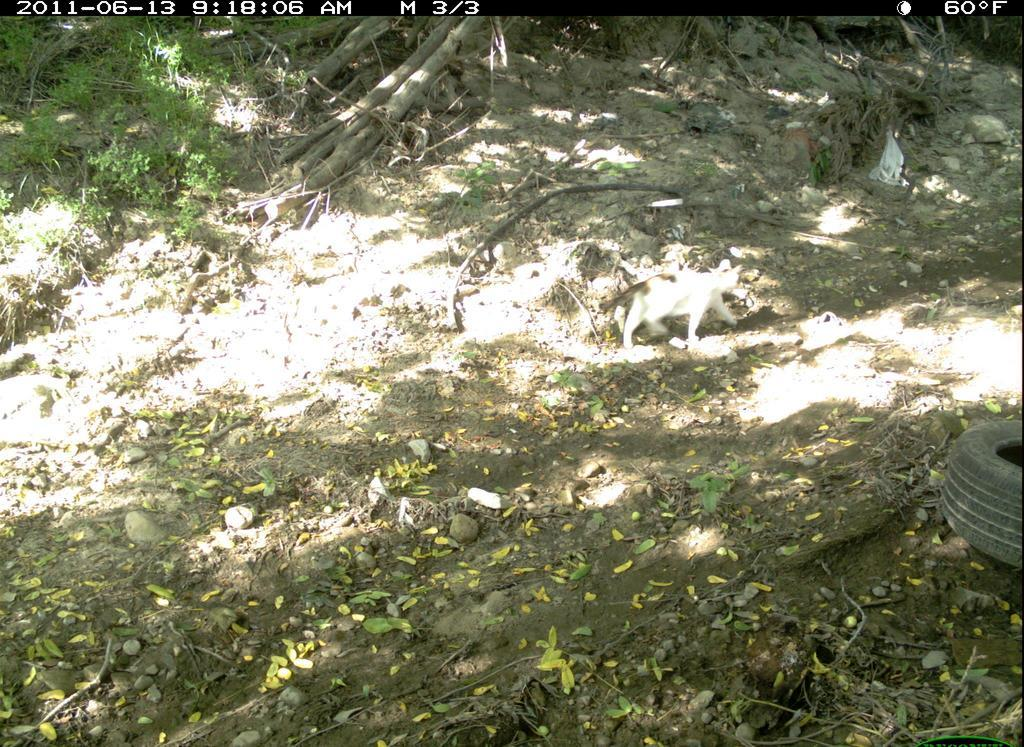cat: (596, 260, 756, 359)
